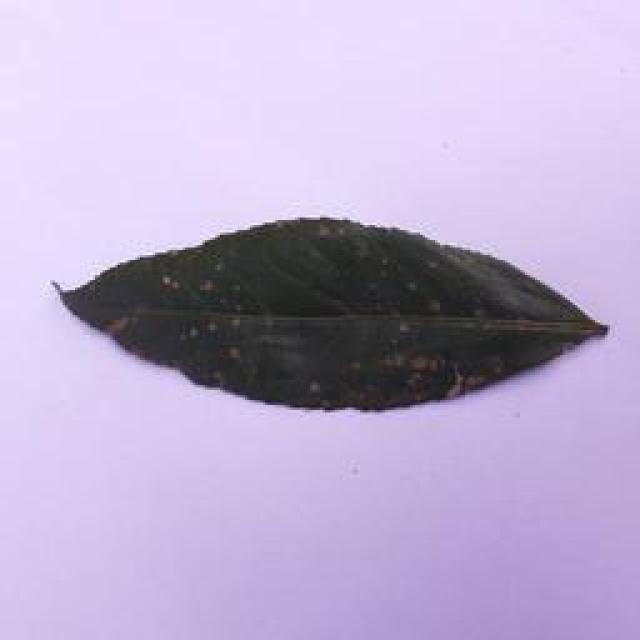Algal Leaf Spot: (48, 208, 618, 415)
